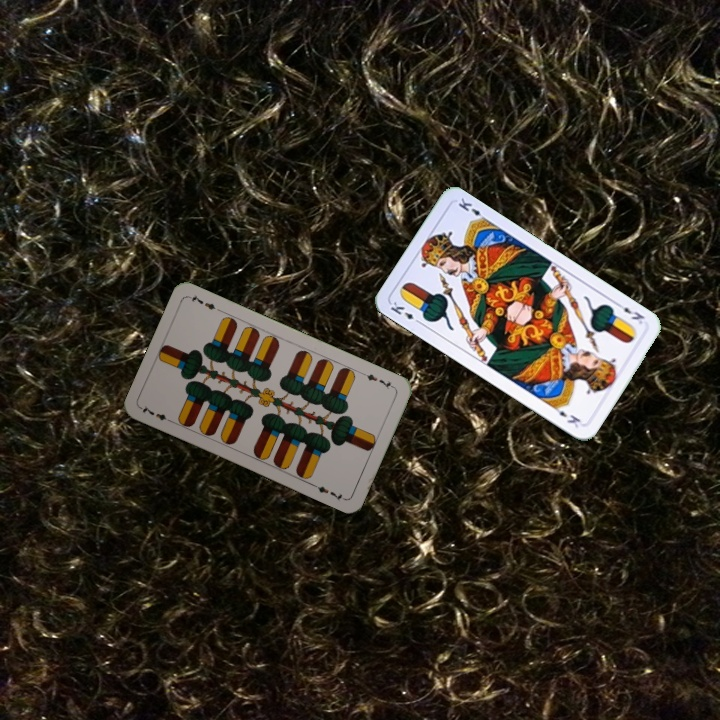E7: (137, 401, 176, 426), (359, 369, 397, 392)
EK: (386, 297, 424, 327), (612, 299, 647, 327)
